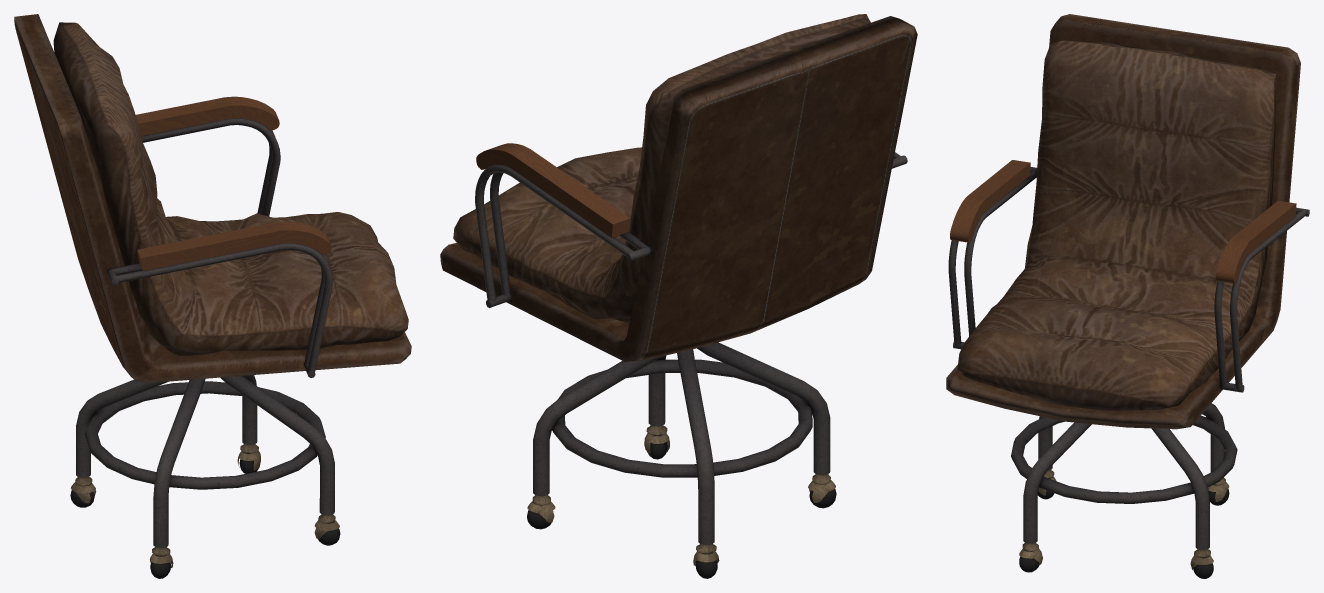
File: Chairtop.fbx
3 views of the same model, side by side, from view 1: azimuth 30°, elevation 25°; view 2: azimuth 150°, elevation 25°; view 3: azimuth 270°, elevation 25° (orthographic). The views are drawn at different scales.
Visible parts, largest first — view 1: chairtop; view 2: chairtop; view 3: chairtop.
Boxes of the visible parts, x1,y1,x2,y2 form: chairtop: [14, 14, 411, 578]; chairtop: [440, 14, 917, 578]; chairtop: [946, 14, 1309, 578].
Size of the model in its own units: 1.33 by 1.63 by 1.2.
Materials: 1 (1 with a texture image).
